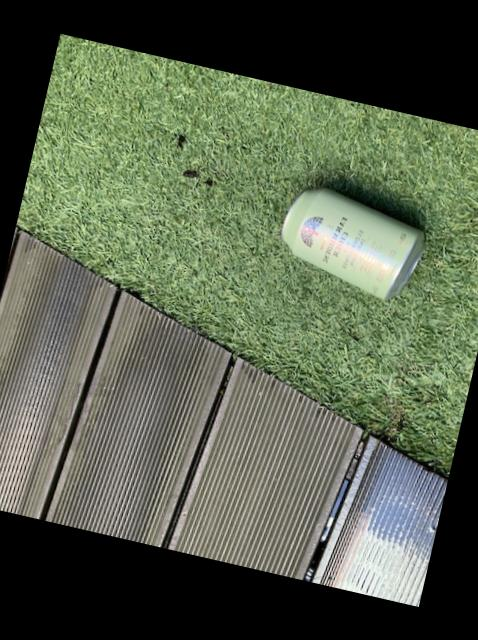metal: (0, 227, 447, 606)
